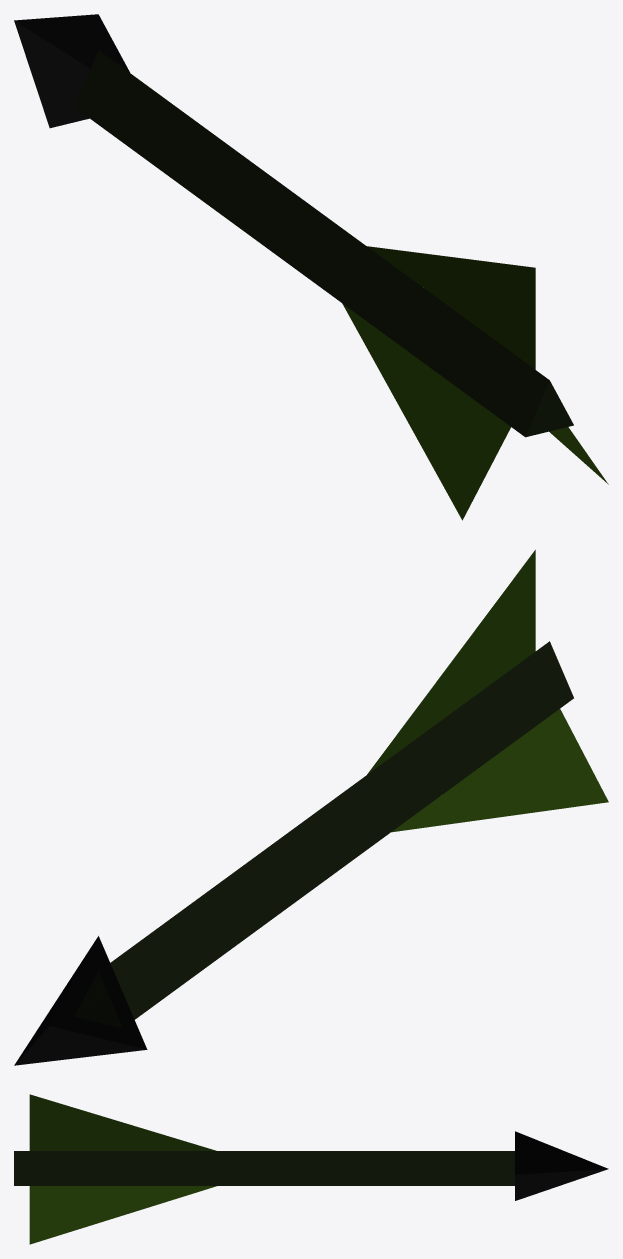
Rendered from templeArrow.gltf.
3 renders of one model, top to bottom at view 1: azimuth 30°, elevation 25°; view 2: azimuth 150°, elevation 25°; view 3: azimuth 270°, elevation 25°, orthographic. The views are drawn at different scales.
Parts seen in each view (by area): view 1: cuboid, plane (×3), cone; view 2: cuboid, plane (×2), cone; view 3: cuboid, plane (×2), cone.
Boxes of the visible parts, x1,y1,x2,y2 form: cuboid: (74,50,573,437); plane (×3): (342,246,608,520); cone: (14,14,129,128); cuboid: (74,641,573,1027); plane (×2): (367,550,608,832); cone: (14,936,147,1065); cuboid: (14,1151,514,1185); plane (×2): (29,1094,216,1244); cone: (515,1131,608,1200).
Size of the model in its own units: 0.0938 by 0.1438 by 0.5938.
Materials: 1 (1 with a texture image).
